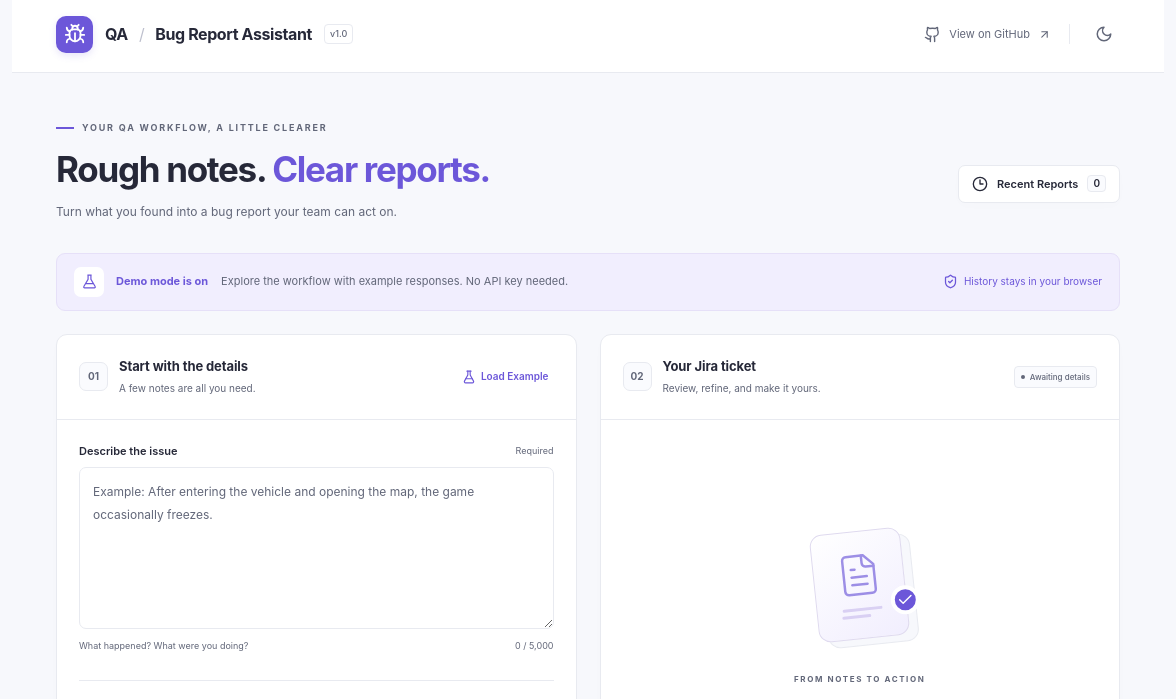
Scenario: report workflow › generates a report, shows quality and saves history
Click the button "Load Example" at coordinates (505, 377), box left=457, top=364, right=554, bottom=389
(page scrolled)
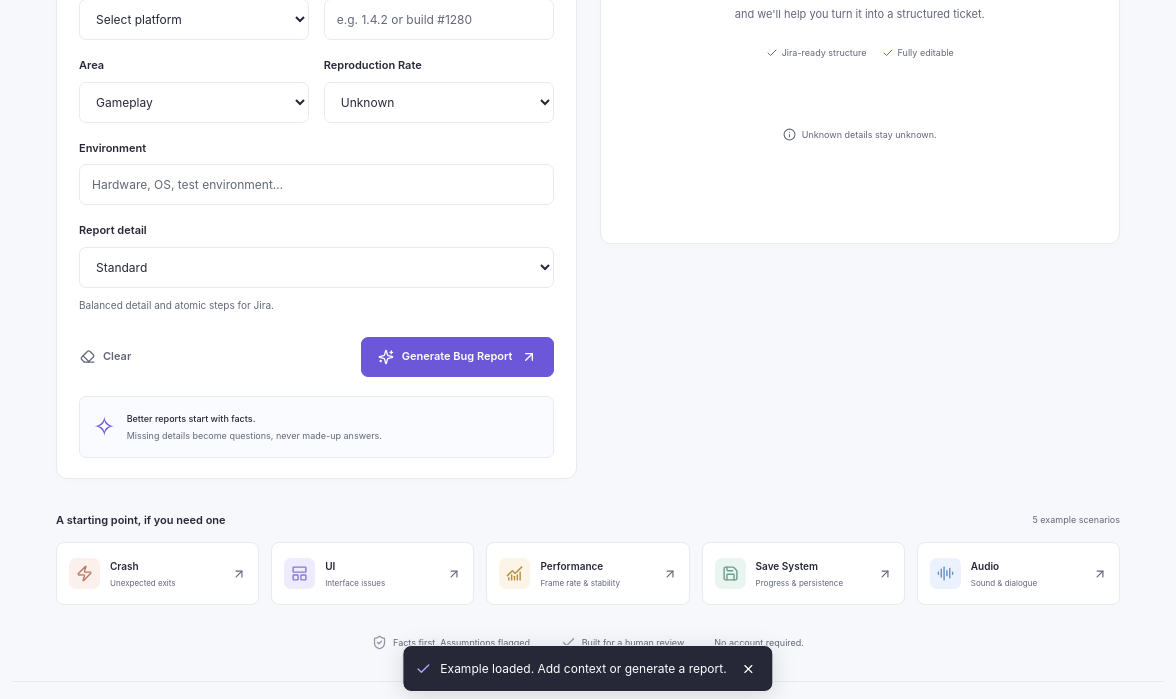
Click the button "Generate Bug Report" at coordinates (457, 357), box left=361, top=337, right=554, bottom=377
(page scrolled)
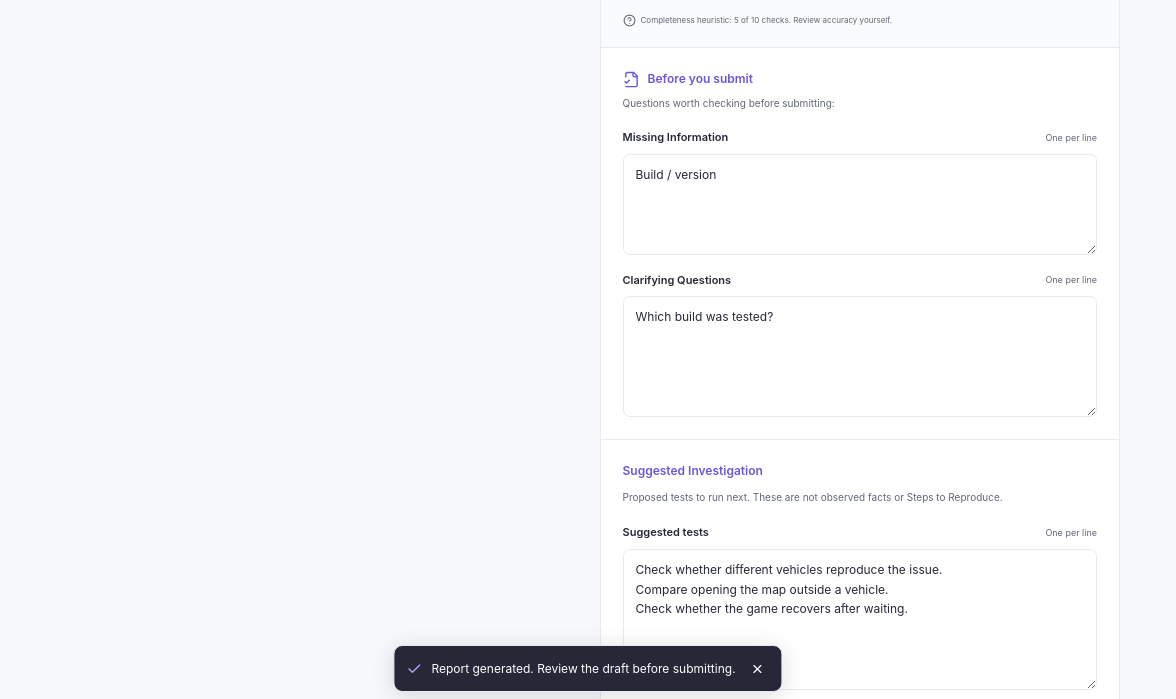
Now the text box showing "Which build was tested?" is shown, box left=622, top=296, right=1097, bottom=417
